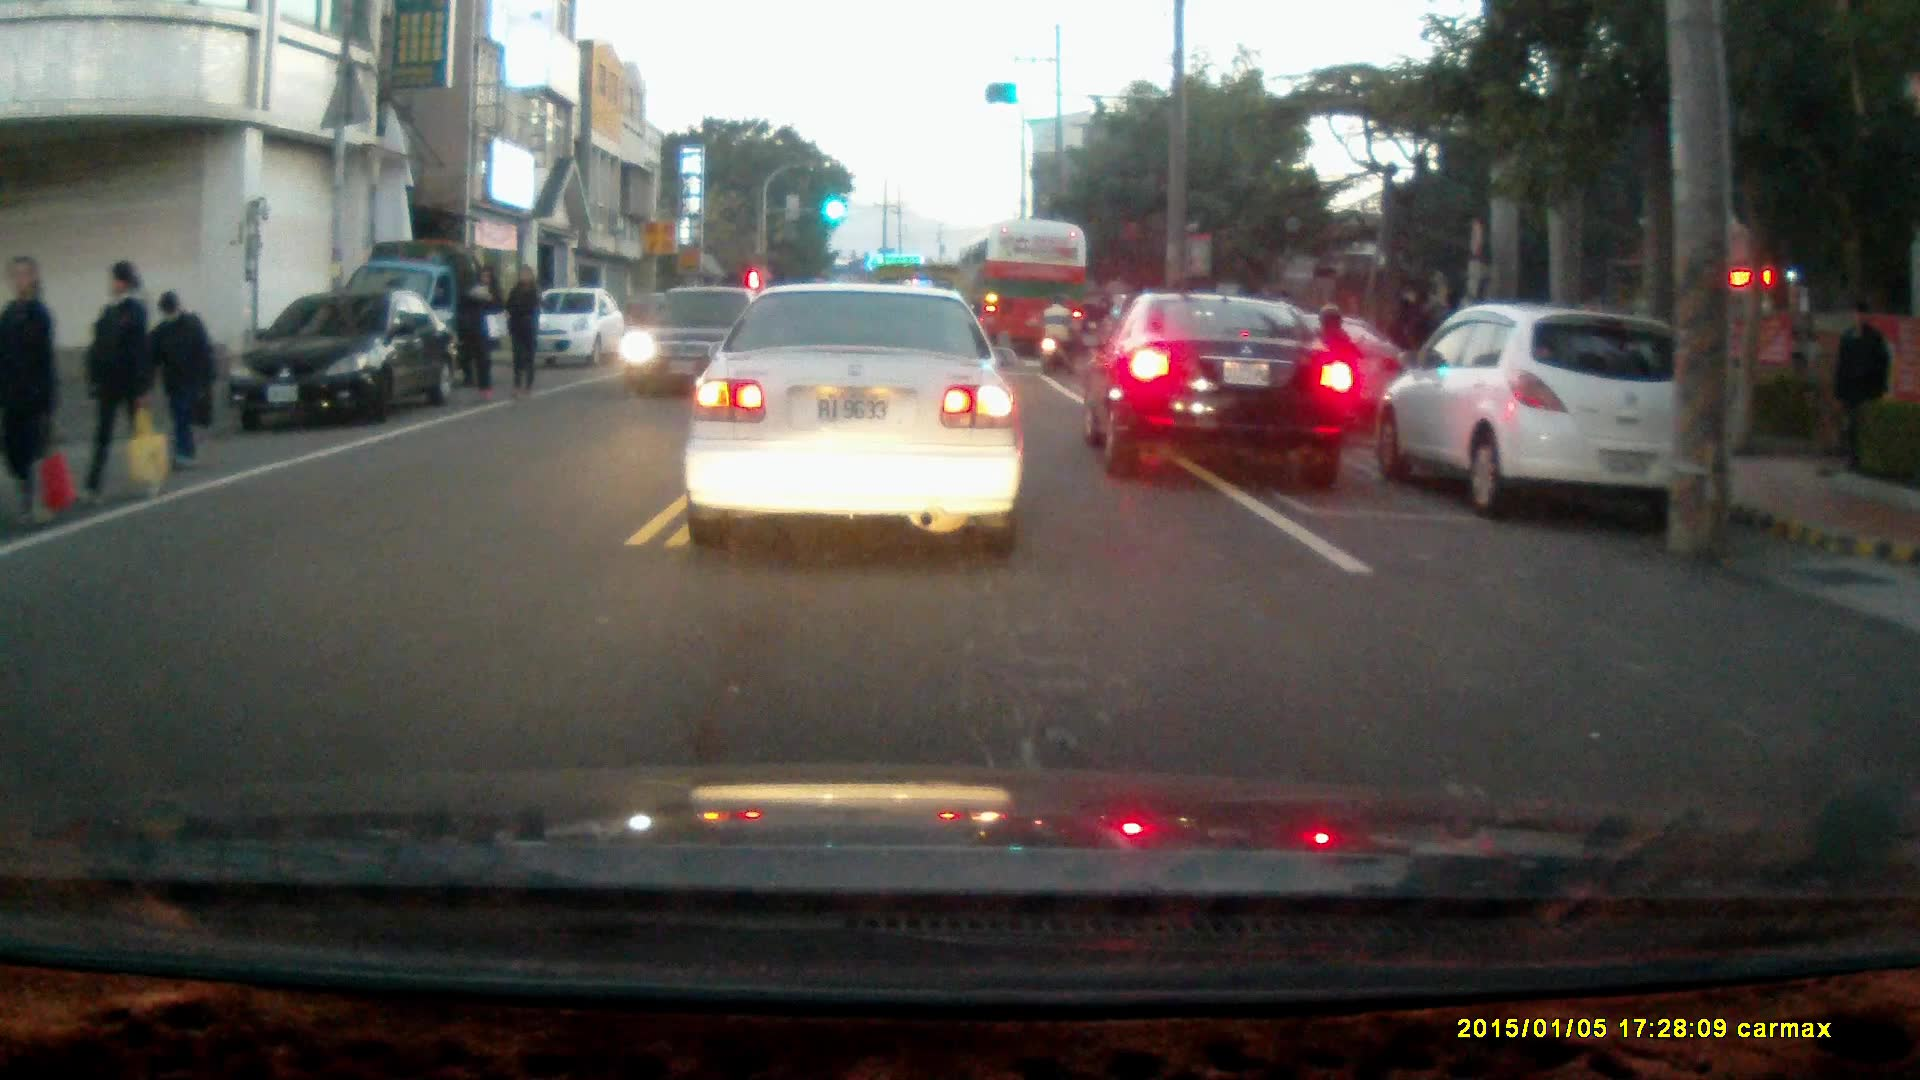pedestrian: (0, 248, 59, 534), (84, 258, 149, 507), (146, 295, 219, 479), (1828, 291, 1890, 473), (459, 264, 505, 406), (502, 259, 542, 403), (1397, 289, 1434, 381)
rider: (1309, 299, 1368, 453), (1036, 292, 1078, 375)
vehicle: (681, 281, 1028, 558), (1373, 298, 1719, 522), (1083, 292, 1346, 485), (227, 284, 454, 434), (340, 237, 499, 394), (960, 218, 1095, 362), (623, 280, 750, 396), (504, 284, 630, 365)
